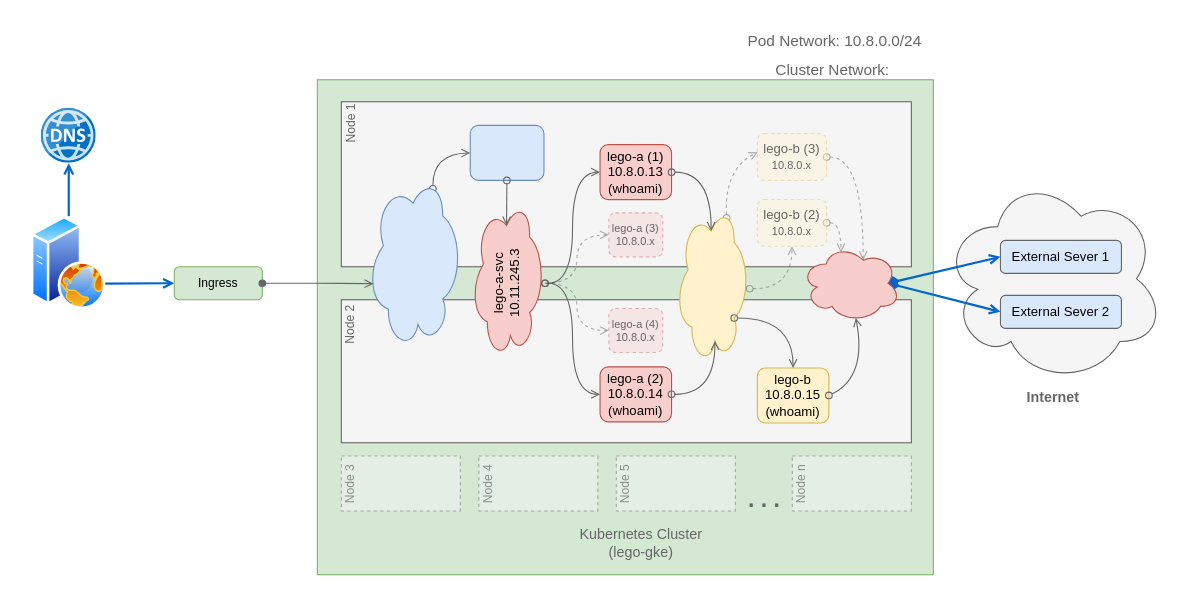
The diagram is 1184 pixels wide and 594 high, and some of its shapes have lost their labels. Here are the shapes that lost their labels. From the top down, the centre of each, then its label:
At [506,152]: "lego-block 10.8.0.12 (nginx)".
At [68,262]: "External Client".
At [412,266]: "lego-block 10.11.248.125".
At [711,288]: "lego-b-svc 10.11.243.249".
At [850,283]: "Service (An alias)".
